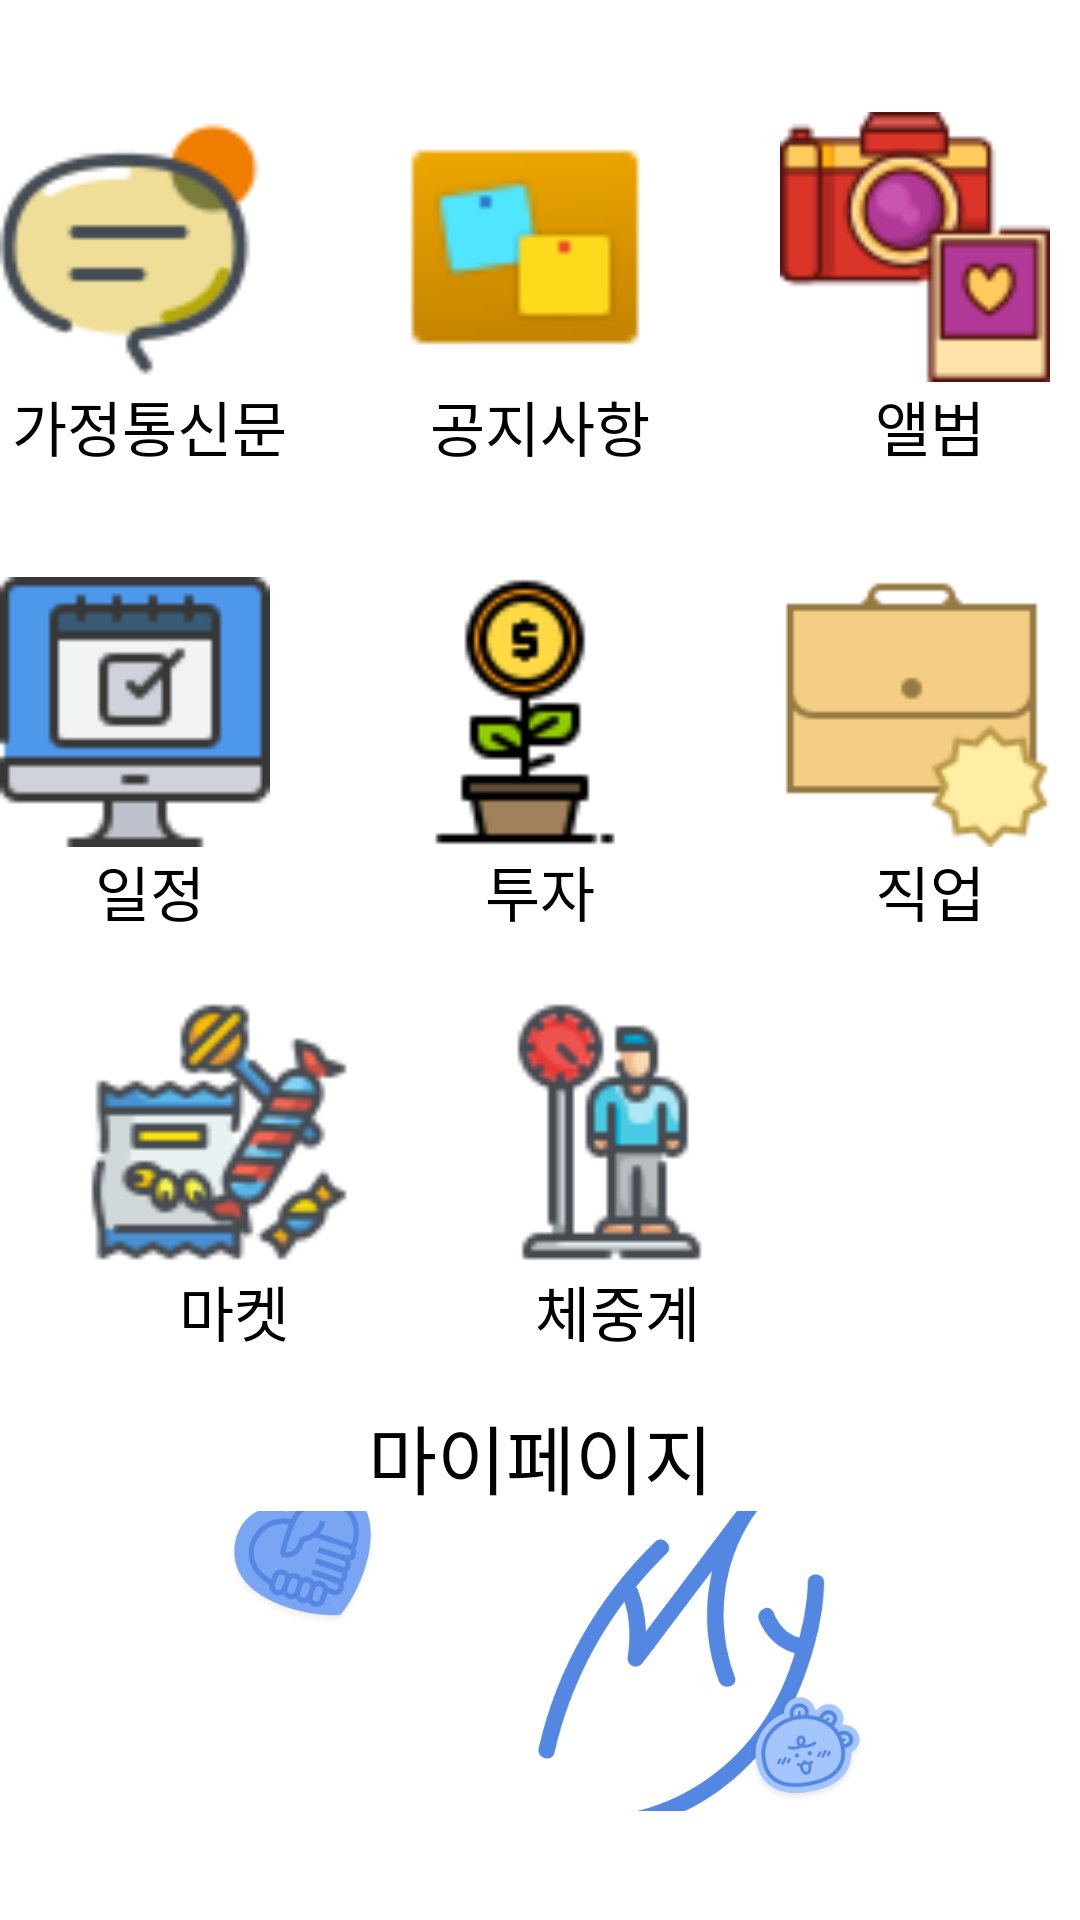

Named icons in this screenshot (1080w x 1920h) and their bounding boxes, (x1, y1, x2, y2):
board: (410, 149, 640, 345)
